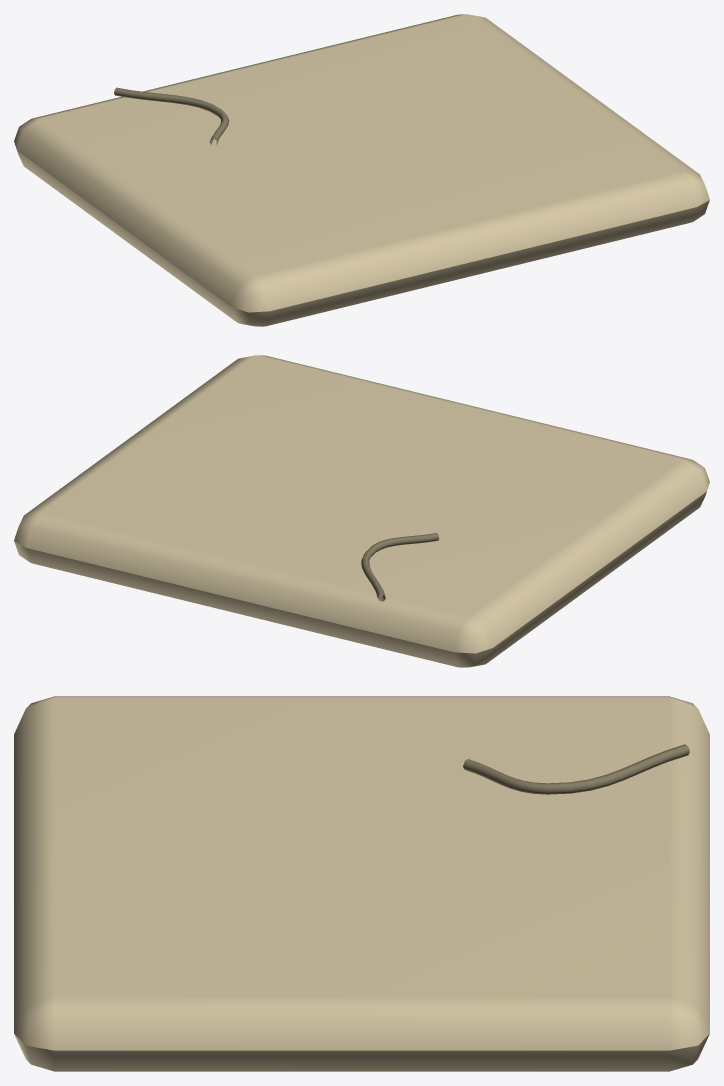
The model's file is path_tile.glb.
The picture shows the model from 3 angles, top to bottom: view 1: azimuth 30°, elevation 25°; view 2: azimuth 150°, elevation 25°; view 3: azimuth 270°, elevation 25°; orthographic projection. The views are drawn at different scales.
Parts seen in each view (by area): view 1: PathTile; view 2: PathTile; view 3: PathTile.
Part boxes in pixels (x1,y1,x2,y2): PathTile: (14, 14, 709, 326); PathTile: (14, 355, 709, 667); PathTile: (14, 696, 709, 1071).
Bounding box in the file's own units: 0.68 × 0.0783 × 0.6.
